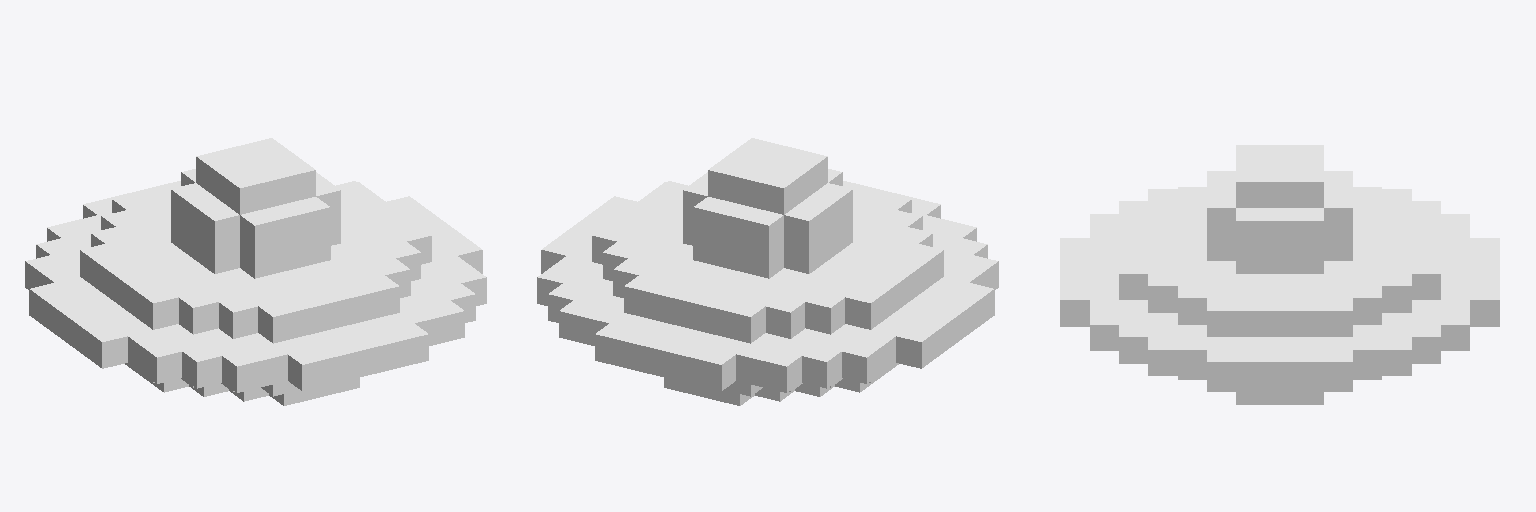
File: Saucer_obj-1.obj
3 renders of one model, left to right at view 1: azimuth 30°, elevation 25°; view 2: azimuth 150°, elevation 25°; view 3: azimuth 270°, elevation 25°, orthographic.
Visible parts, largest first — view 1: object 1; view 2: object 1; view 3: object 1.
Part boxes in pixels (x1,y1,x2,y2): object 1: (25,138,486,405); object 1: (537,138,998,405); object 1: (1060,145,1499,404).
Size of the model in its own units: 1.5 by 0.7 by 1.5.